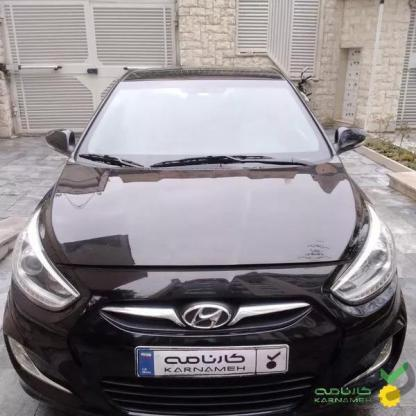Car: (0, 59, 410, 416)
